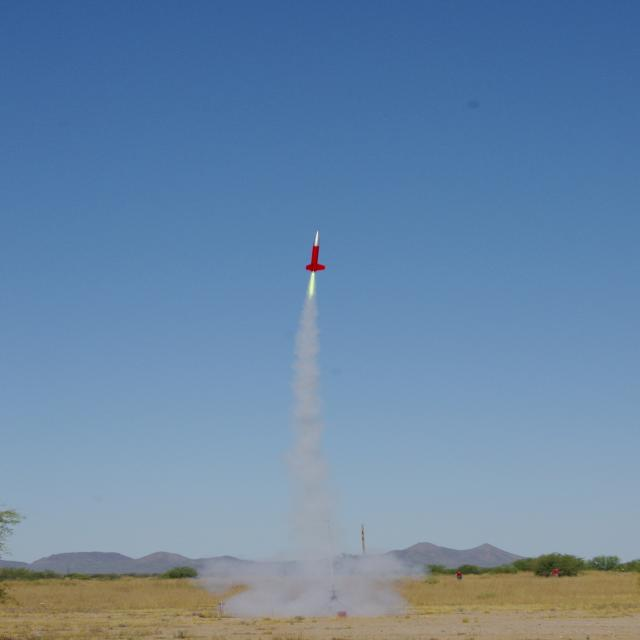Rocket: (306, 230, 326, 273)
